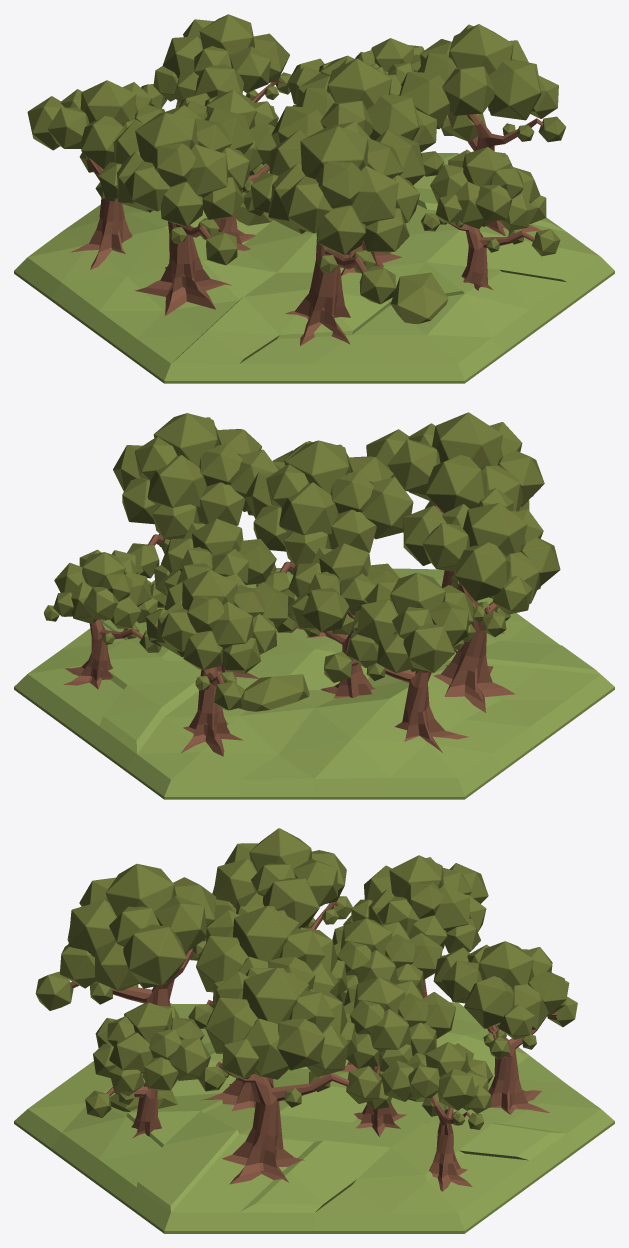
File: deciduousForest.glb
3 views of the same model, one above another, from view 1: azimuth 30°, elevation 25°; view 2: azimuth 150°, elevation 25°; view 3: azimuth 270°, elevation 25° (orthographic).
Parts seen in each view (by area): view 1: Deciduousforest; view 2: Deciduousforest; view 3: Deciduousforest.
Boxes of the visible parts, x1,y1,x2,y2 form: Deciduousforest: (14, 14, 614, 383); Deciduousforest: (14, 412, 614, 799); Deciduousforest: (14, 828, 614, 1233).
Size of the model in its own units: 1.73 by 0.8375 by 2.
